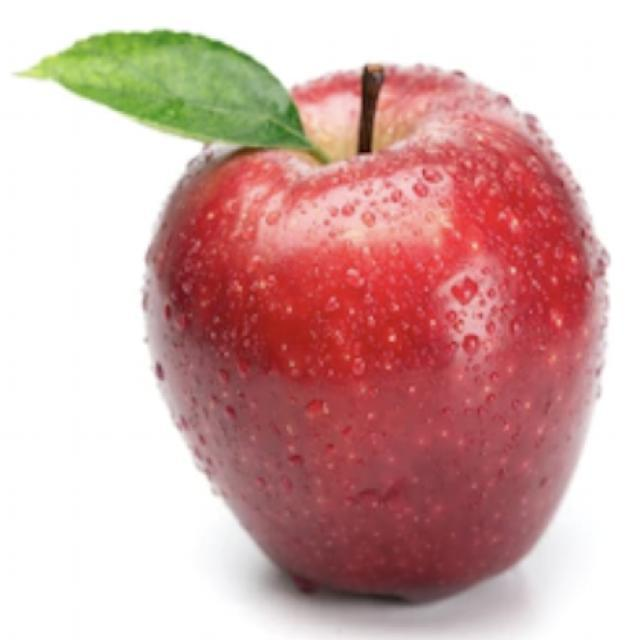Fresh Apple: (163, 78, 577, 600)
